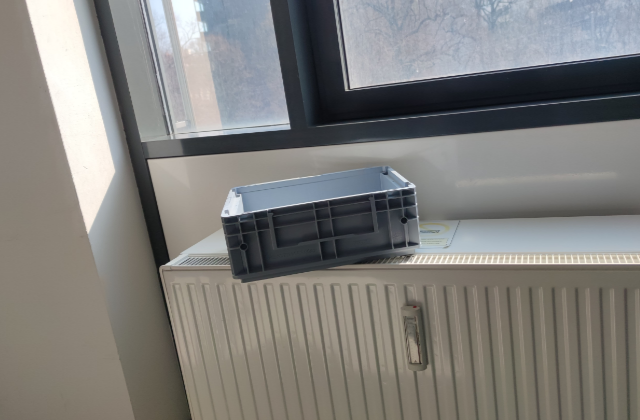Box: (219, 163, 422, 284)
